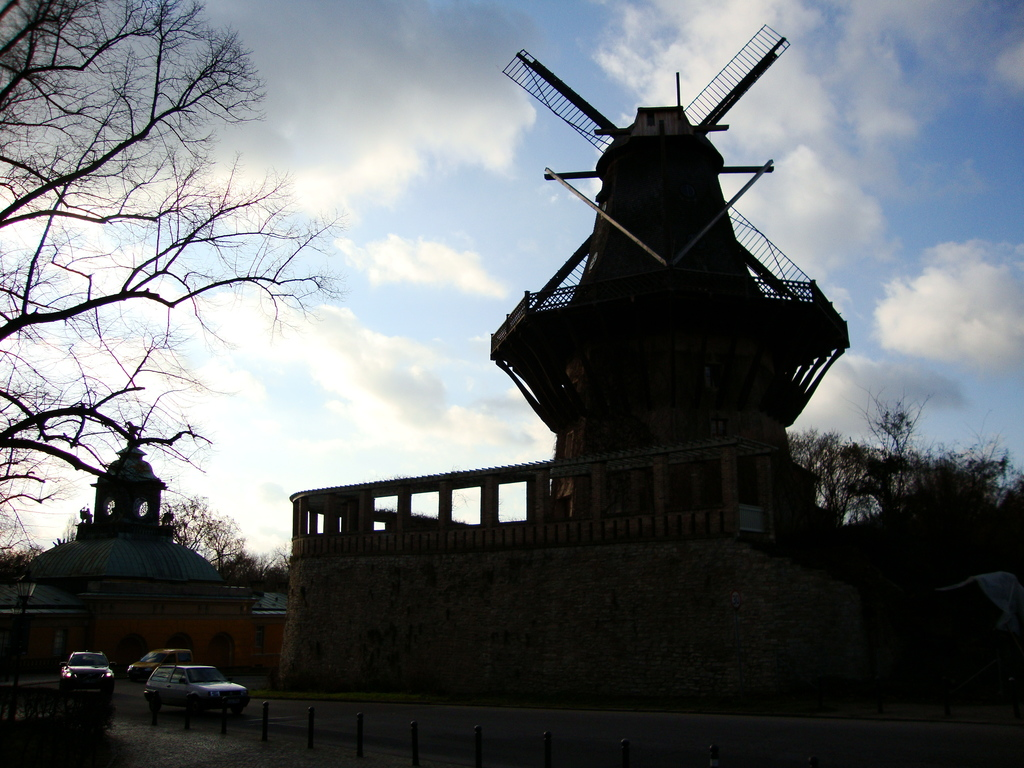Car: (147, 664, 253, 711), (57, 648, 113, 695), (126, 649, 190, 680)
